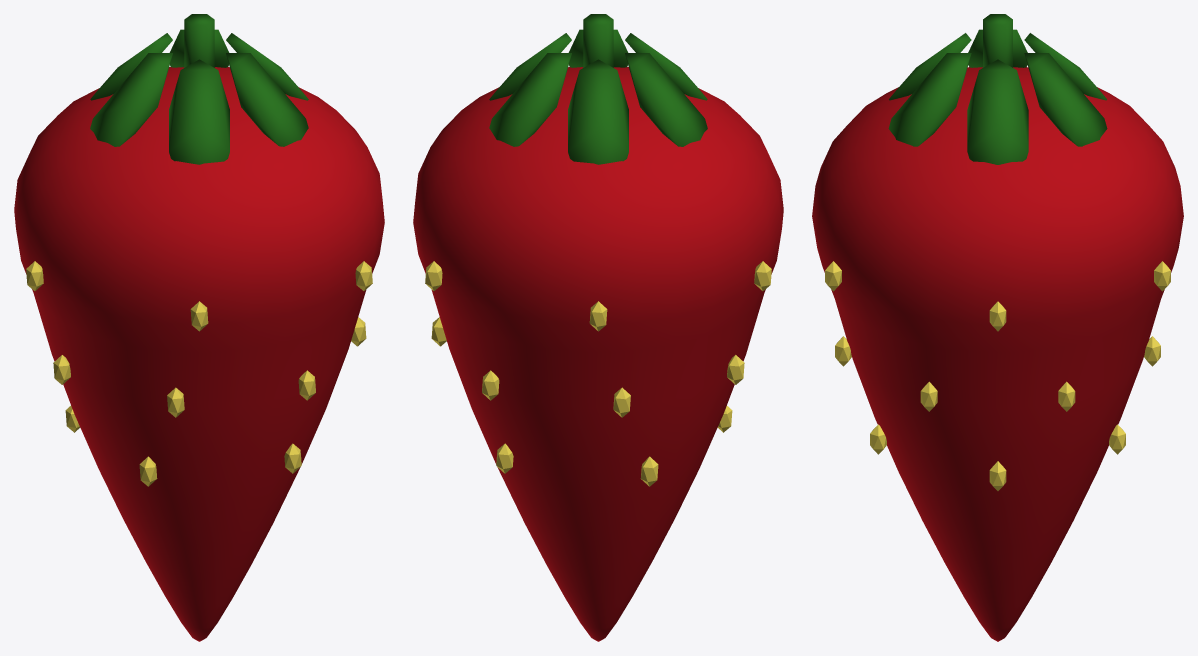
Rendered from strawberry.glb.
3 views of the same model, side by side, from view 1: azimuth 30°, elevation 25°; view 2: azimuth 150°, elevation 25°; view 3: azimuth 270°, elevation 25° (orthographic).
Visible parts, largest first — view 1: strawberry; view 2: strawberry; view 3: strawberry.
Part boxes in pixels (x1,y1,x2,y2): strawberry: (14, 14, 384, 641); strawberry: (413, 14, 783, 641); strawberry: (812, 14, 1183, 641).
Size of the model in its own units: 0.5791 by 1 by 0.5415.
Materials: 1 (1 with a texture image).
